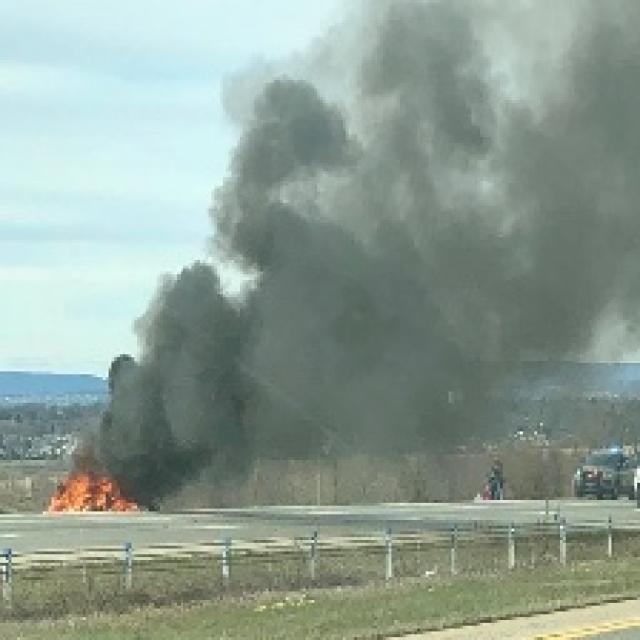Fire: (44, 472, 135, 512)
Smoke: (100, 0, 640, 470)
